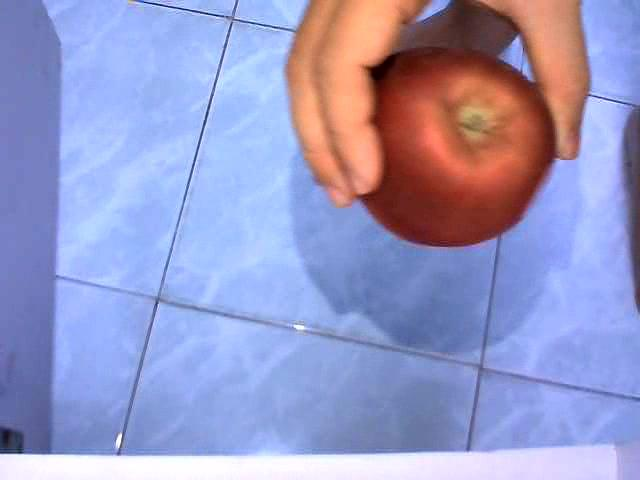apple: (357, 47, 555, 249)
